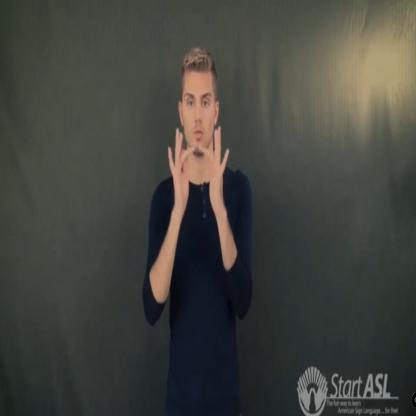Internet: (166, 117, 230, 219)
